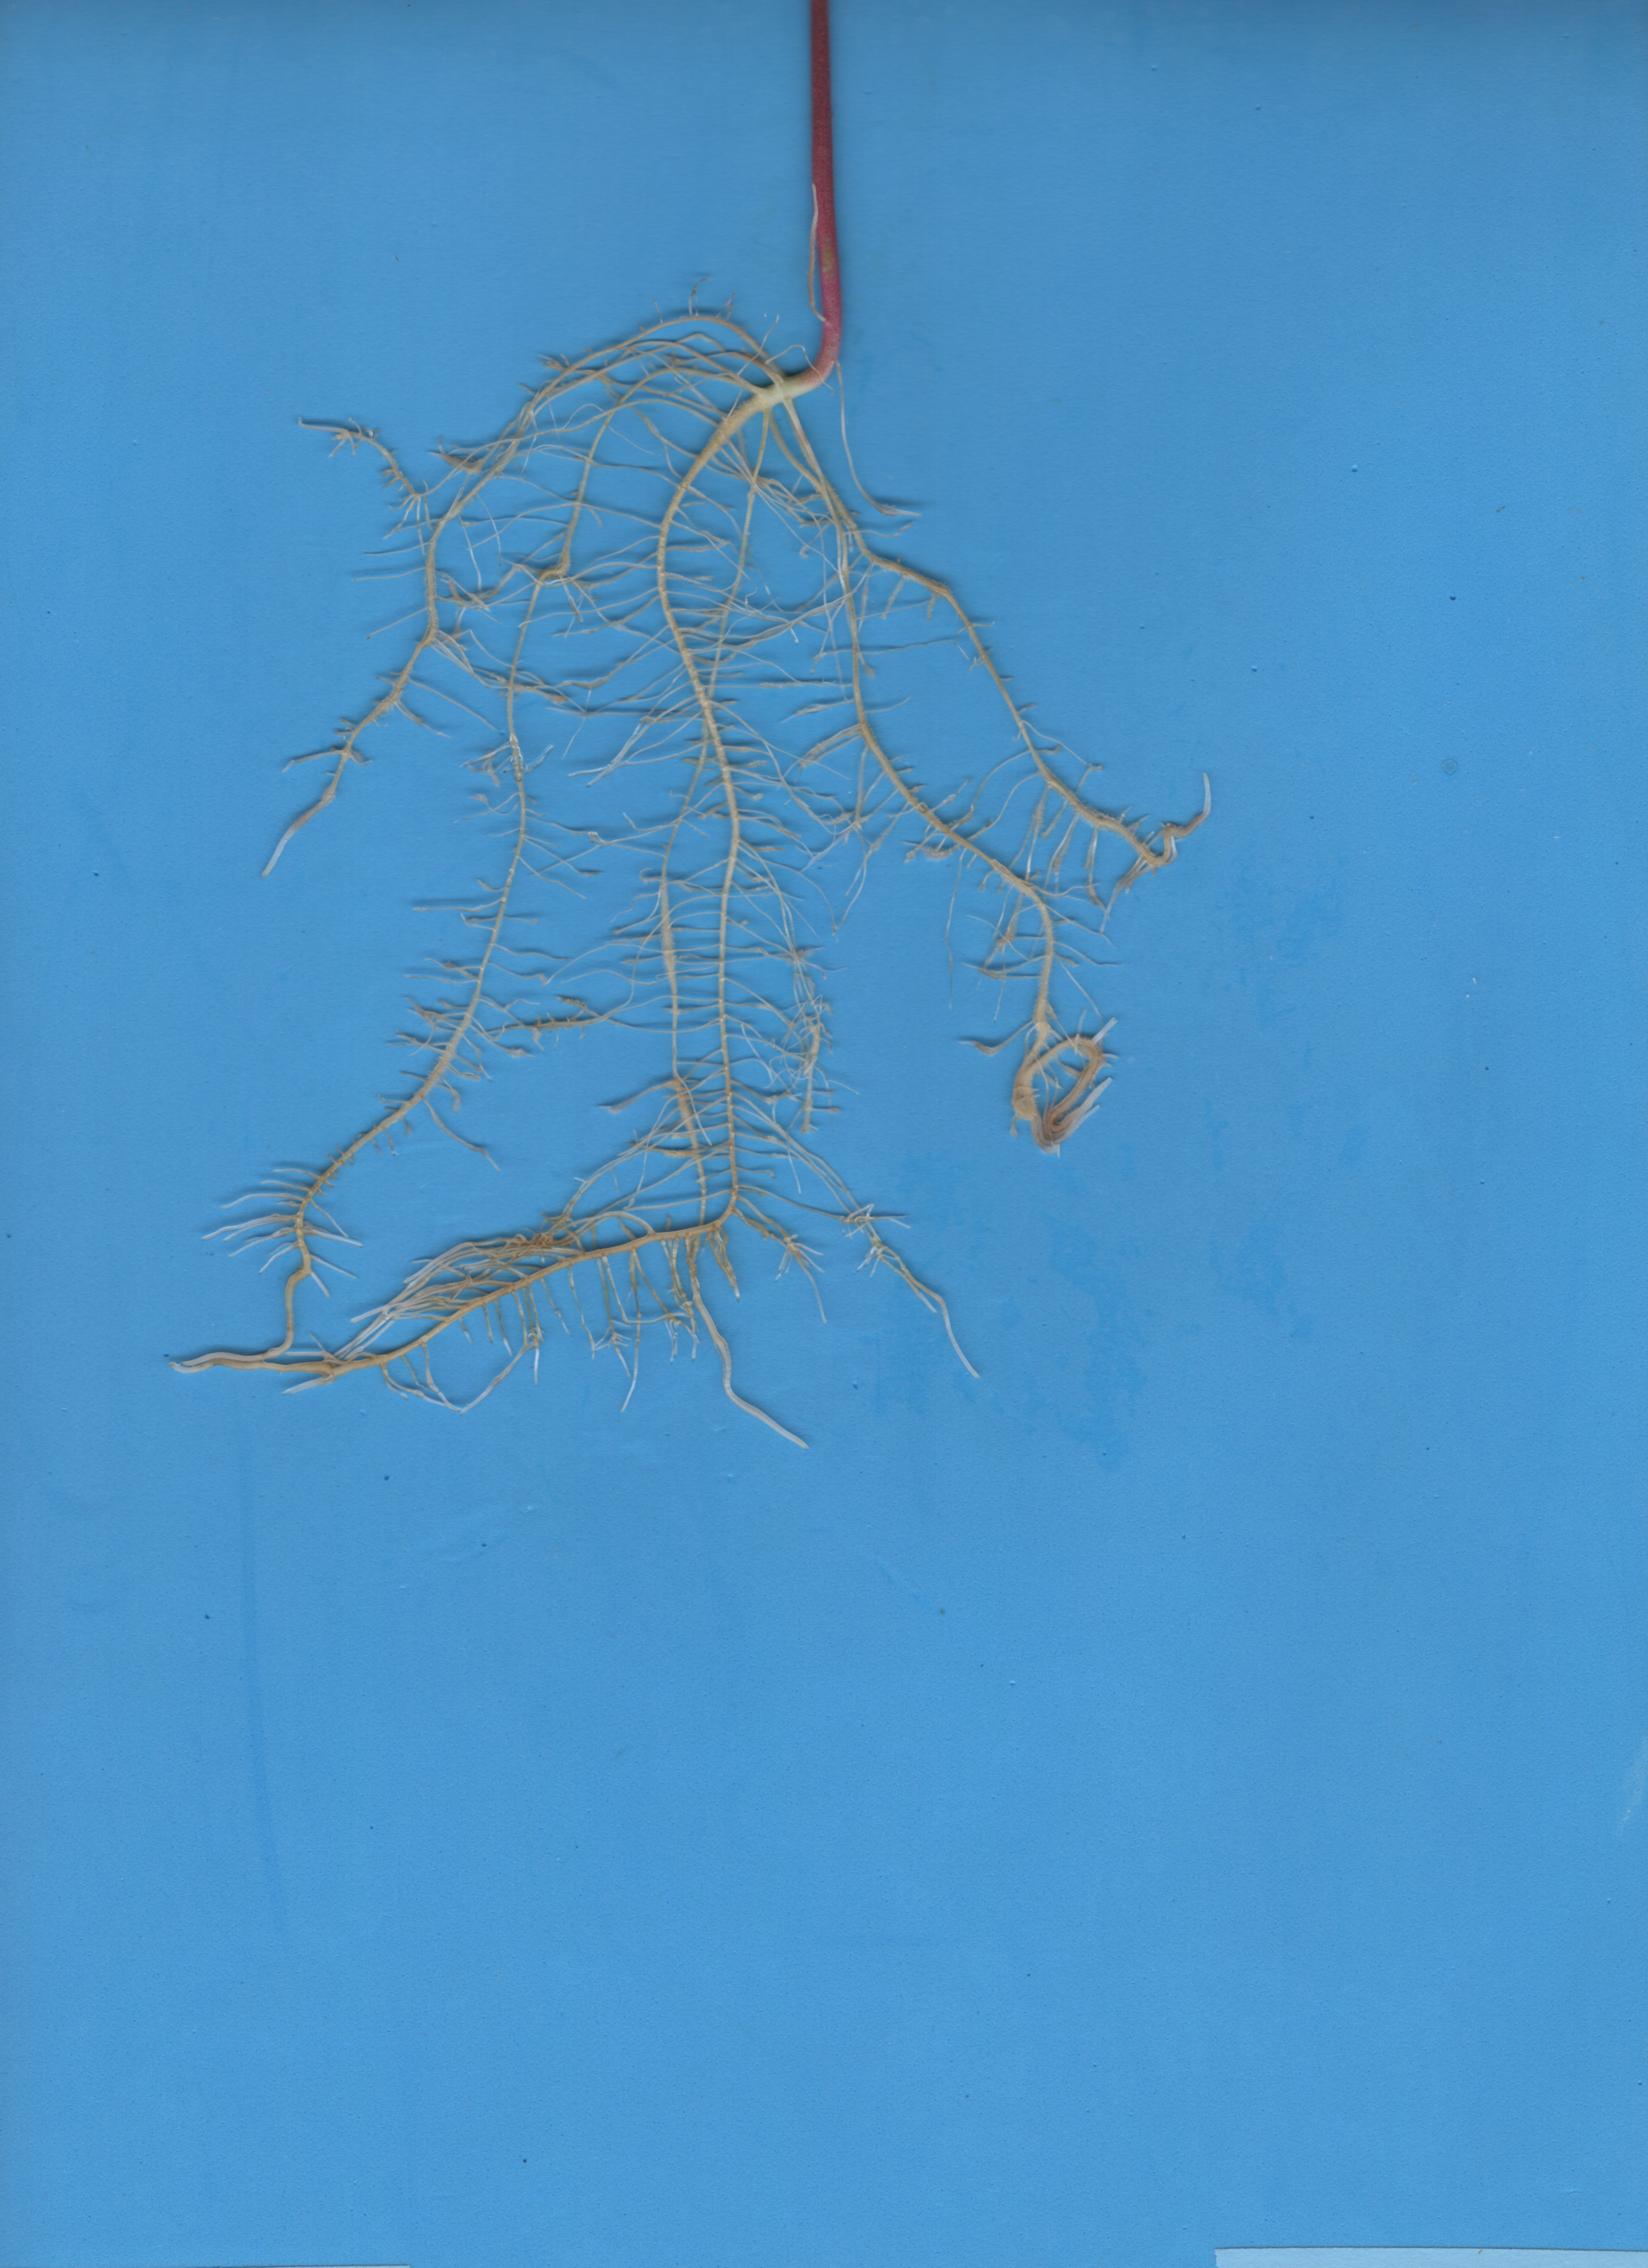CROWNDISEASE: (778, 0, 921, 363)
ROOTGOOD: (129, 328, 1407, 1446)
